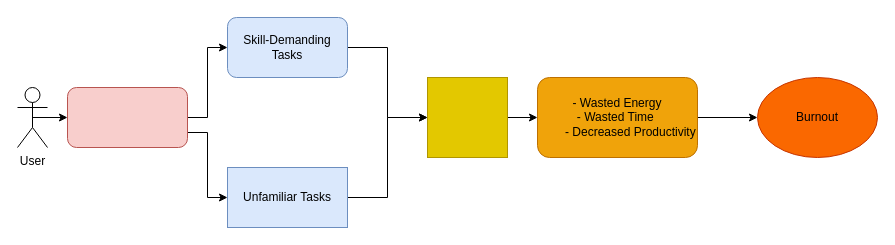
Some shapes in this 895 by 245 pixel diagram are drawn without their labels. Here are the shapes that lost their labels. From the top down, the centre of each, then its label:
At point 127,117: "User Task Engage ment".
At point 467,117: "High Learning Curve".
